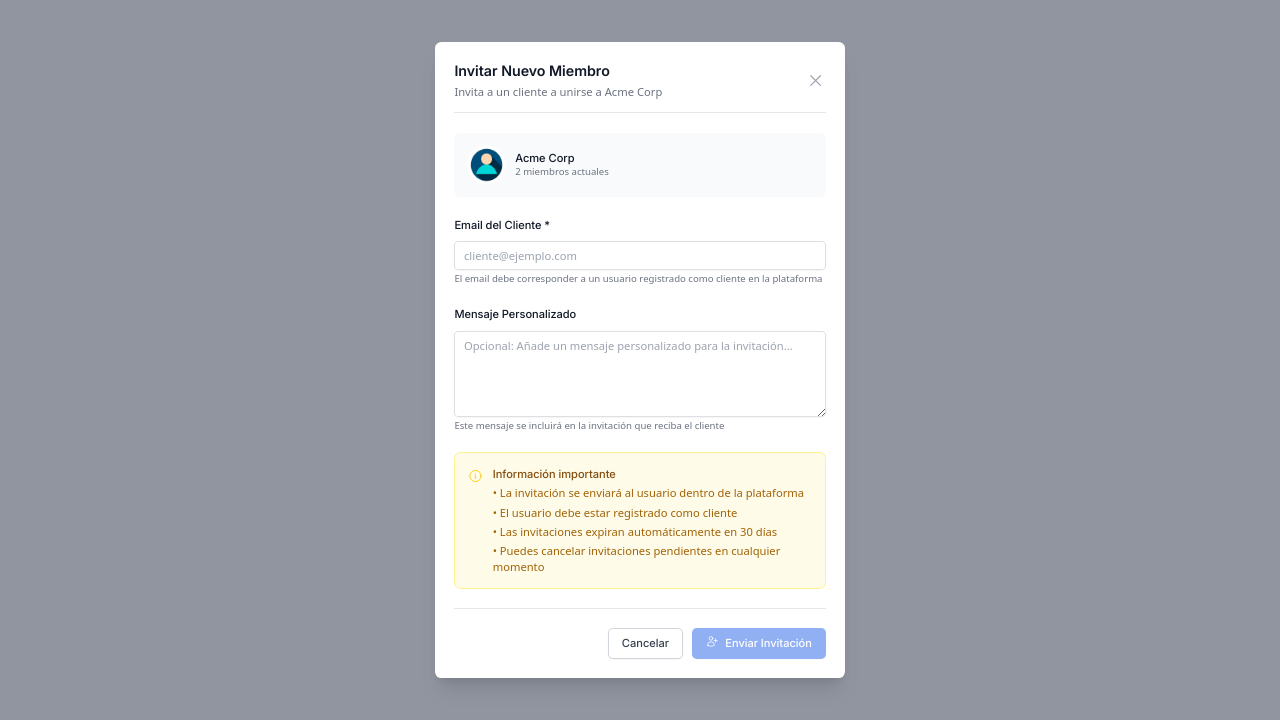
Test: InviteMemberModal.vue › error response with details sets field errors
Type "bad" into the field with id "email" at coordinates (640, 256), box [454,241,826,270]
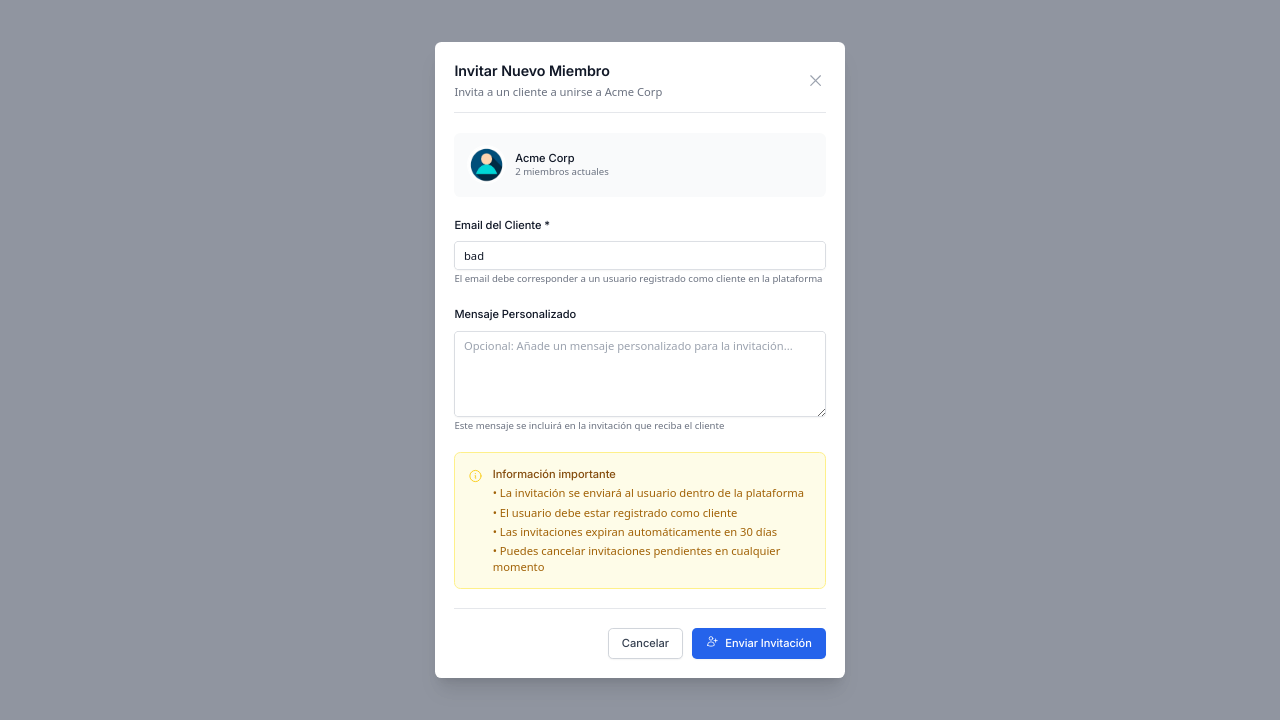
Submit the form, box [454,132,826,659]
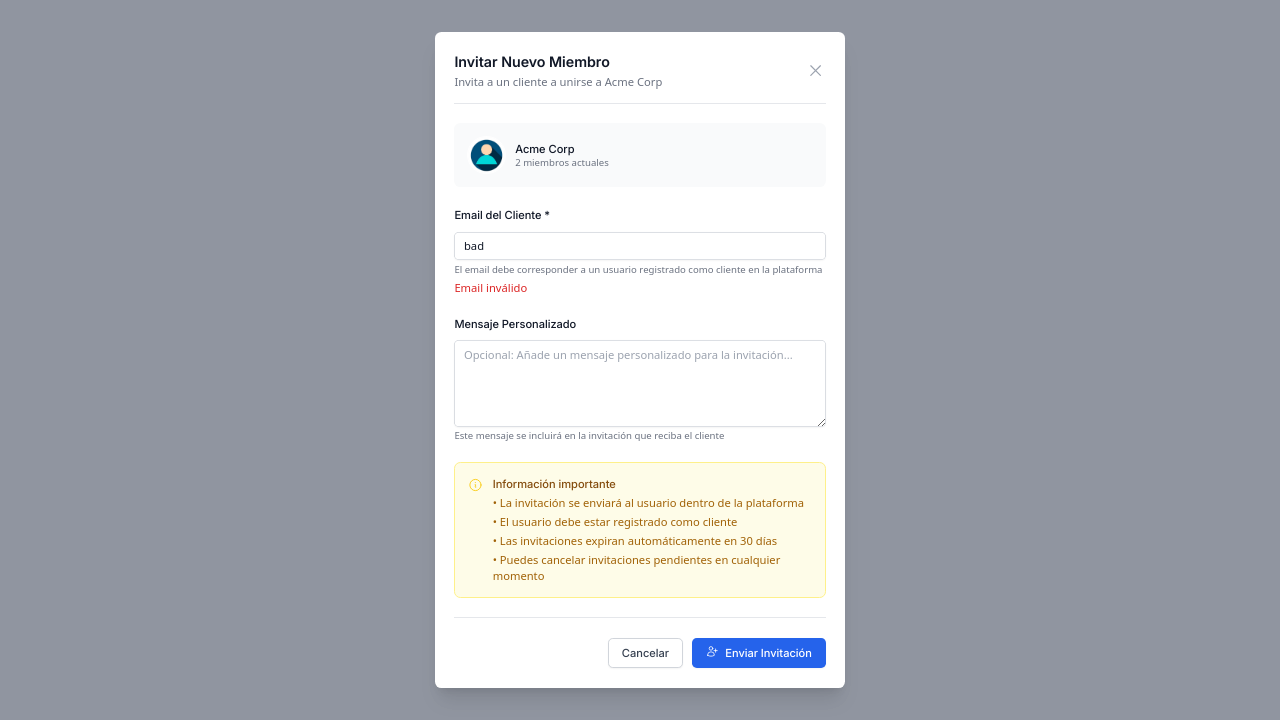
Check: the text "Email inválido" is shown, box [454,280,527,295]
